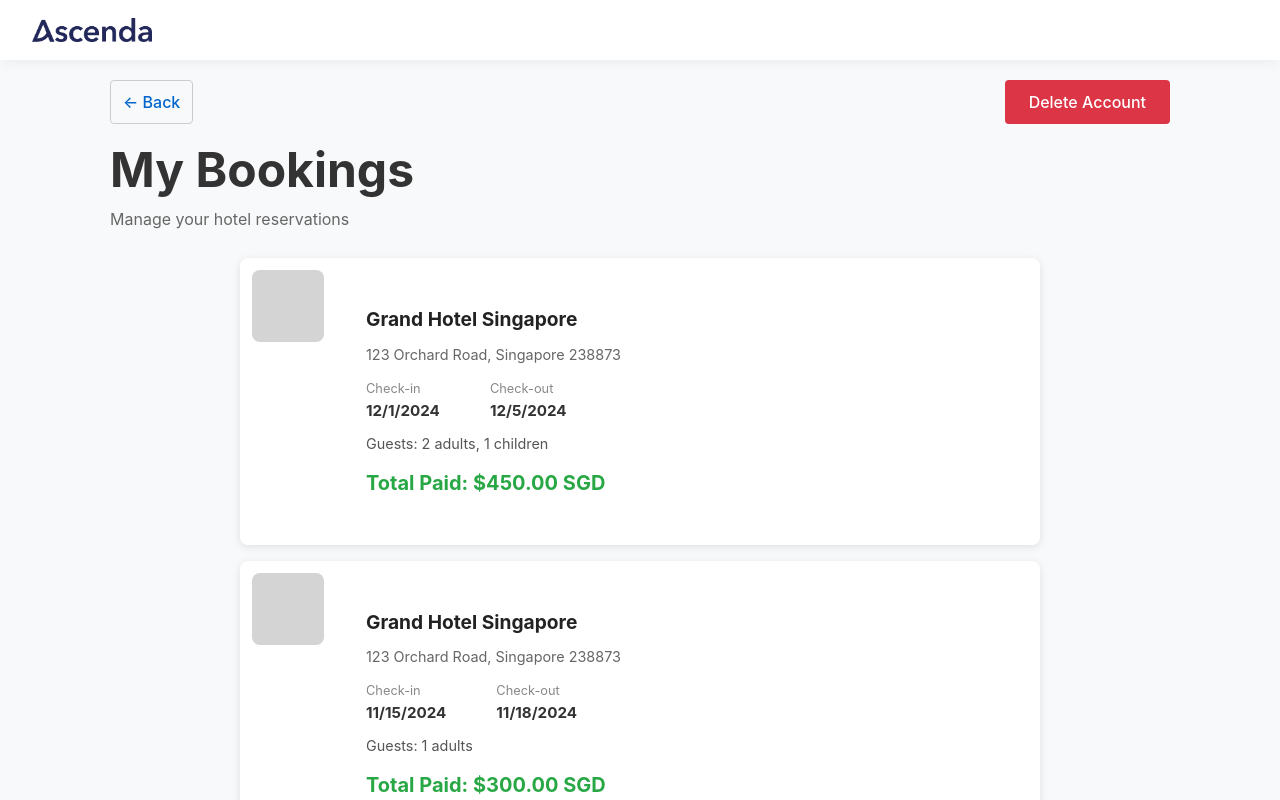
Test: ViewBookingsPage and BookingDetailsModal Integration › should render bookings and open modal on card click
Expected: the heading "My Bookings" is shown, [110,140,414,199]
Expected: the number of headings "Grand Hotel Singapore" is 2, [366,307,577,331]; [366,610,577,634]
Click the text "Total Paid: $450.00 SGD".
click(640, 402)  # box [240,258,1040,545]
(page scrolled)
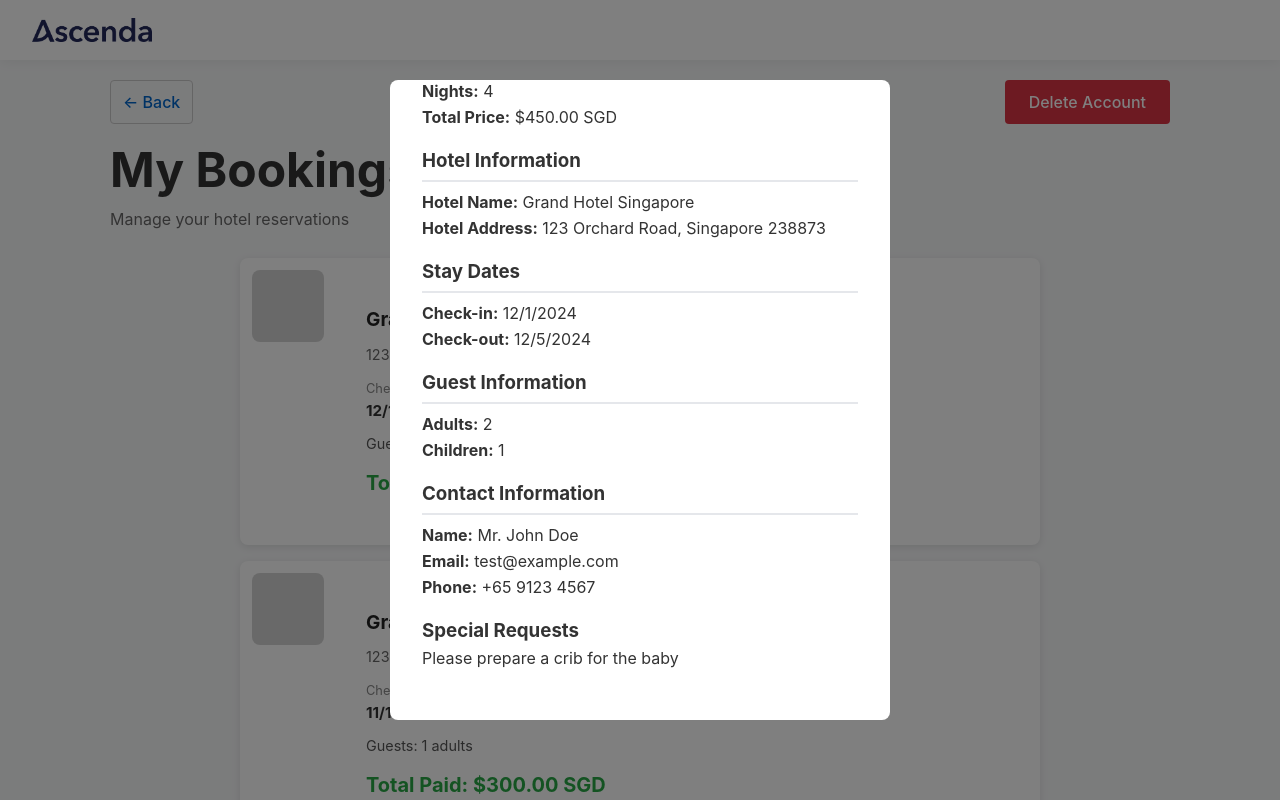
Now the text "4" is shown, box [483,81,494,101]
Now the text "$450.00 SGD" is shown, box [422,106,617,126]
Now the text "Mr. John Doe" is shown, box [422,525,579,545]
